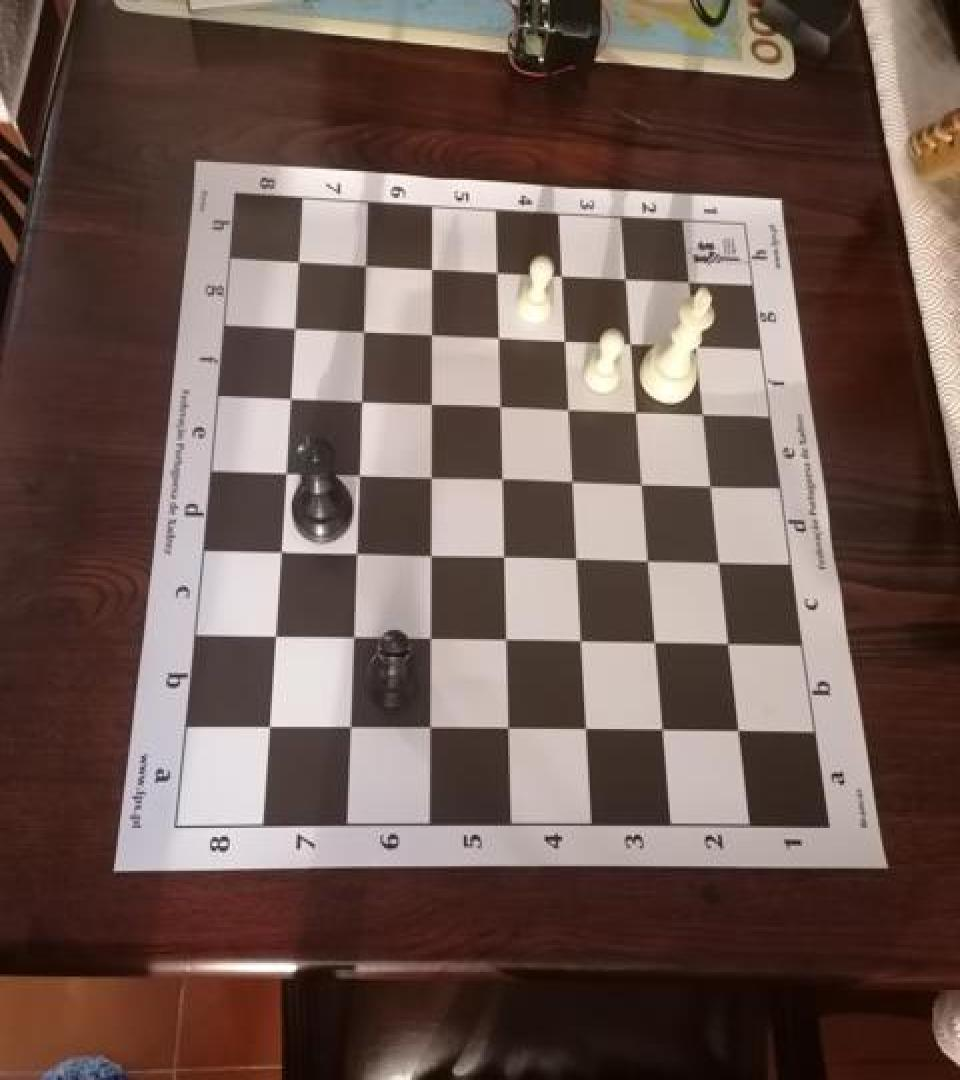xcorner: (254, 714, 282, 746), (336, 714, 364, 746), (416, 715, 444, 747), (495, 715, 523, 747), (260, 622, 288, 654), (339, 623, 367, 655), (416, 624, 444, 656), (716, 630, 744, 662), (417, 540, 445, 572), (491, 542, 519, 574), (564, 544, 592, 576), (417, 460, 445, 492), (489, 463, 517, 495), (630, 468, 658, 500), (699, 470, 727, 502), (275, 380, 303, 412), (347, 382, 375, 414), (487, 388, 515, 420), (556, 391, 584, 423), (691, 397, 719, 429), (280, 308, 308, 340), (418, 315, 446, 347), (486, 318, 514, 350), (619, 325, 647, 357), (684, 327, 712, 359), (352, 245, 380, 277), (484, 252, 512, 284), (549, 255, 577, 287), (677, 262, 705, 294), (573, 717, 601, 748), (649, 718, 677, 749), (725, 718, 753, 749), (493, 627, 521, 658), (568, 628, 596, 659), (642, 629, 670, 660), (265, 537, 293, 568), (342, 538, 370, 569), (636, 546, 664, 577), (707, 548, 735, 579), (271, 456, 299, 487), (344, 458, 372, 489), (560, 466, 588, 497), (418, 386, 446, 417), (624, 394, 652, 425), (349, 312, 377, 343), (553, 322, 581, 353), (284, 242, 312, 273), (418, 249, 446, 280), (613, 259, 641, 290)
